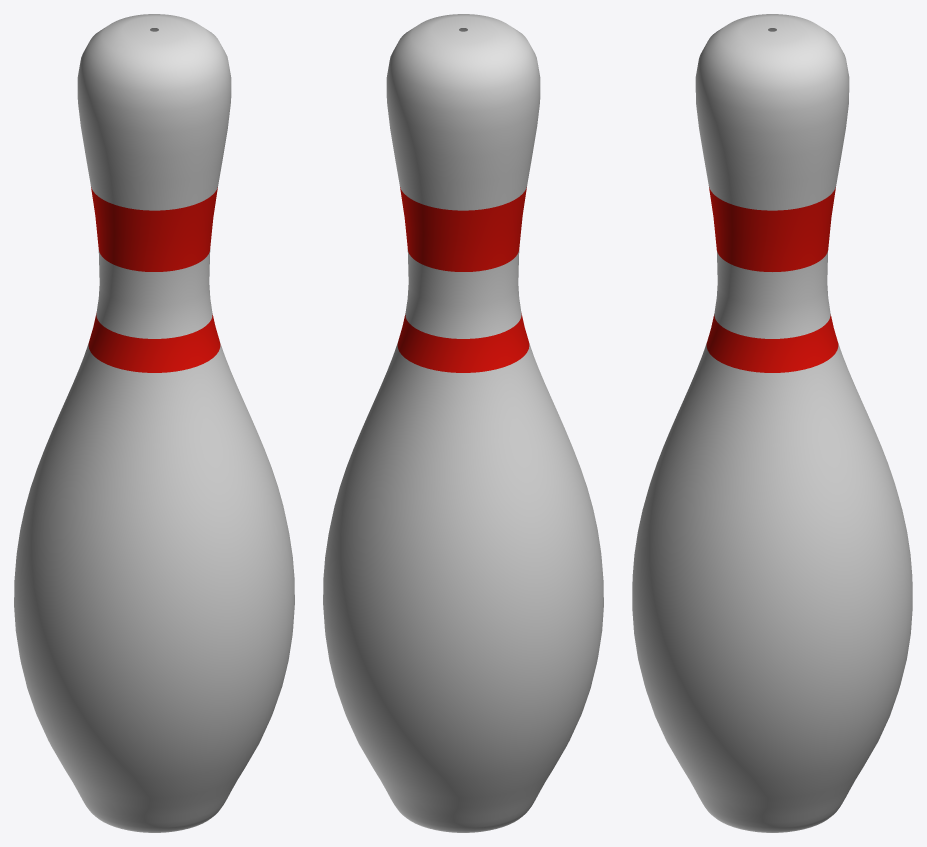
File: pin.fbx
3 renders of one model, left to right at view 1: azimuth 30°, elevation 25°; view 2: azimuth 150°, elevation 25°; view 3: azimuth 270°, elevation 25°, orthographic.
Parts seen in each view (by area): view 1: BezierCurve; view 2: BezierCurve; view 3: BezierCurve.
Boxes of the visible parts, <box> form: BezierCurve: <box>14,14,294,832</box>; BezierCurve: <box>323,14,603,832</box>; BezierCurve: <box>632,14,912,832</box>.
Size of the model in its own units: 179 by 549 by 179.
